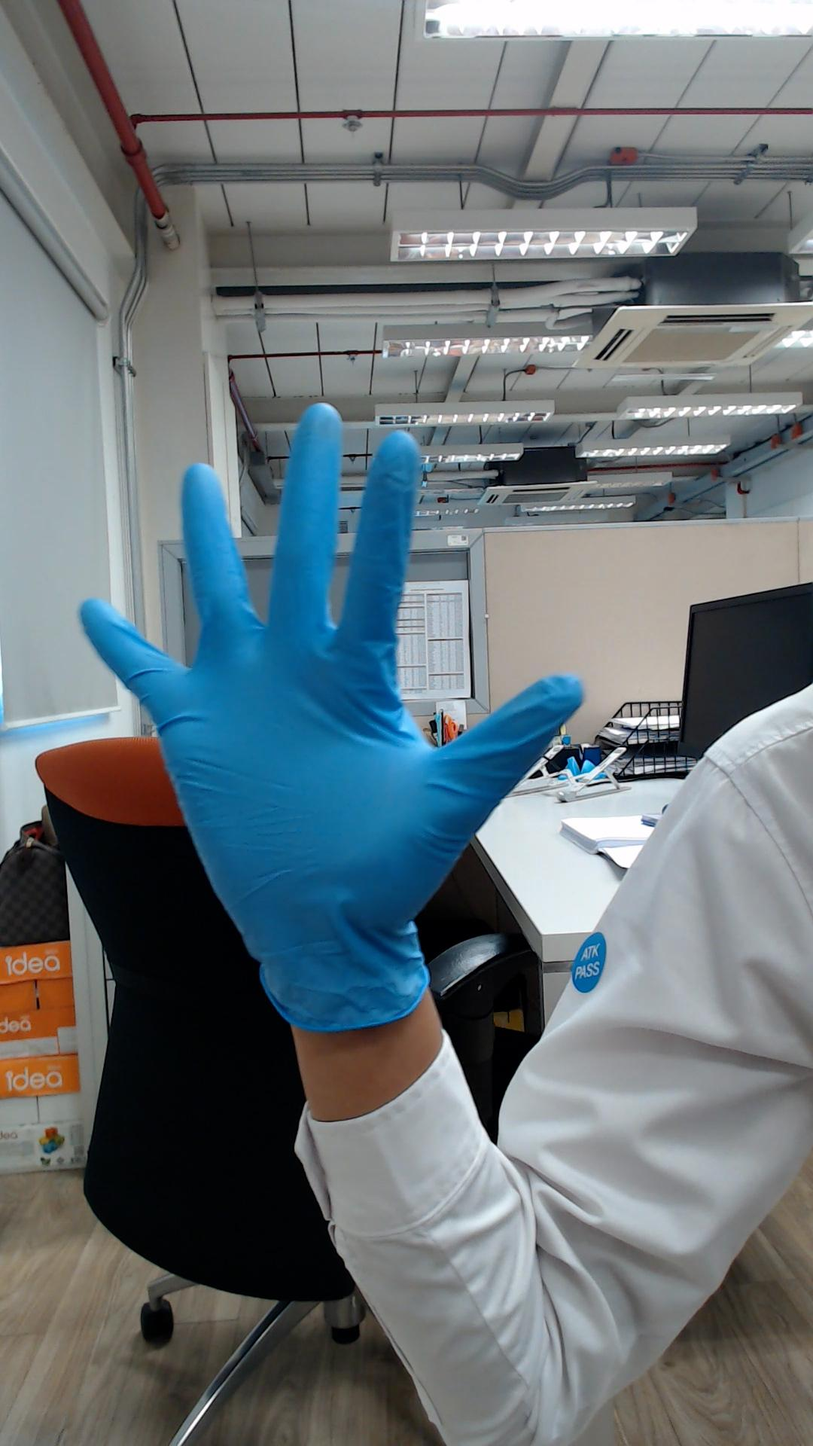gloves: (74, 382, 597, 918)
